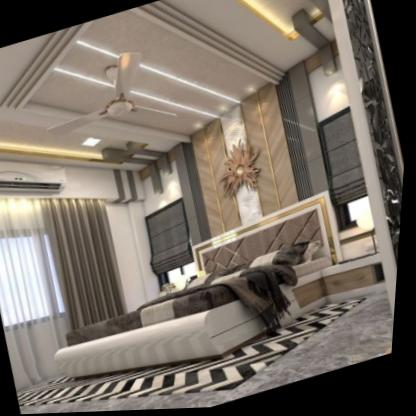Gypsum Board: (0, 0, 396, 216)
